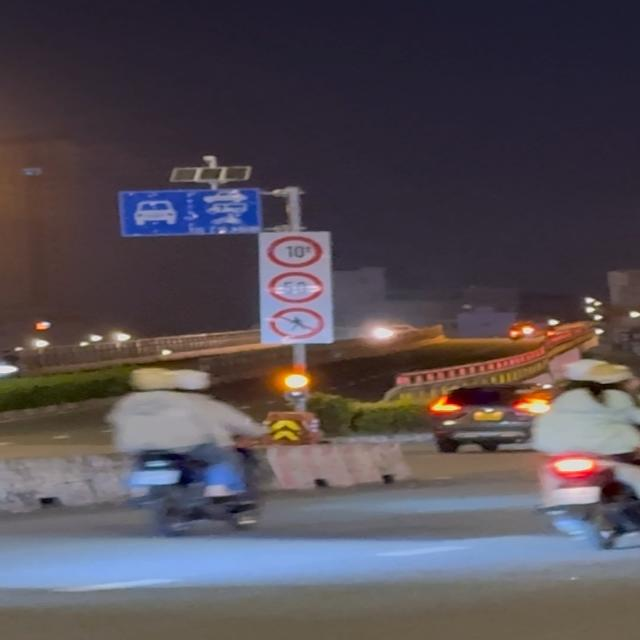Bien bao cam nguoi di bo: (268, 306, 334, 341)
Bien bao toc do toi da cho phep: (267, 269, 334, 304)
